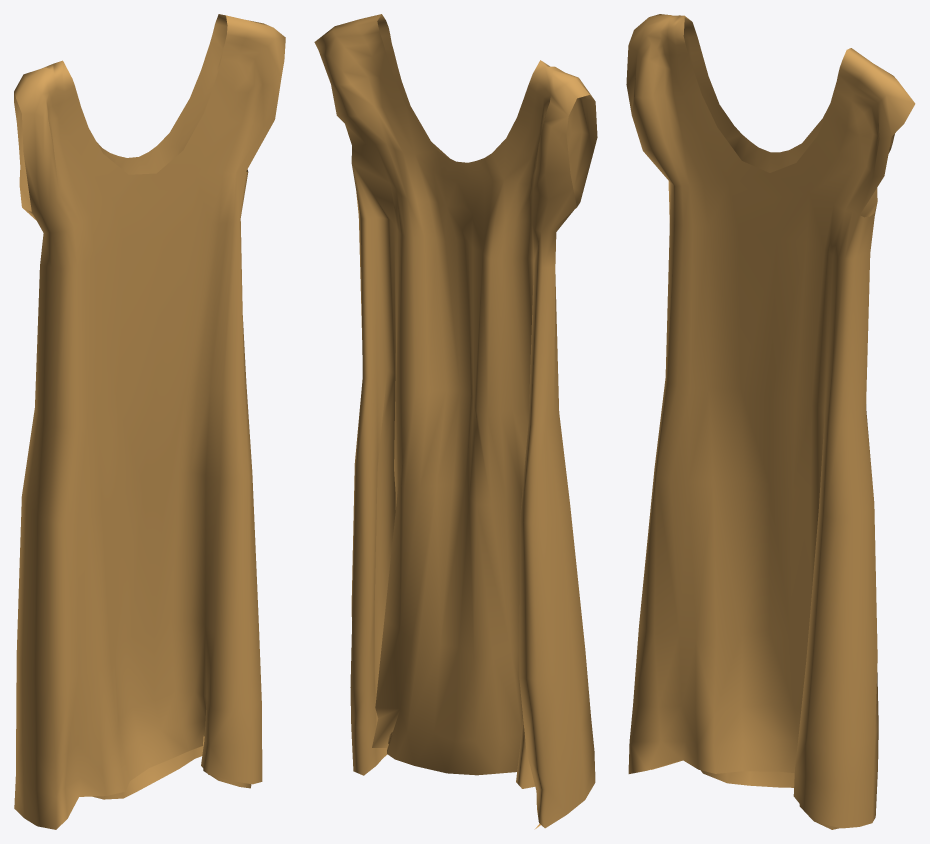
The model's file is Dress02.fbx.
3 renders of one model, left to right at view 1: azimuth 30°, elevation 25°; view 2: azimuth 150°, elevation 25°; view 3: azimuth 330°, elevation 25°, orthographic. The views are drawn at different scales.
Visible parts, largest first — view 1: Dress02; view 2: Dress02; view 3: Dress02.
Part boxes in pixels (x1=…): Dress02: x1=14, y1=14, x2=285, y2=829; Dress02: x1=314, y1=14, x2=597, y2=829; Dress02: x1=626, y1=14, x2=915, y2=829.
Size of the model in its own units: 49.7 by 133 by 16.52.
